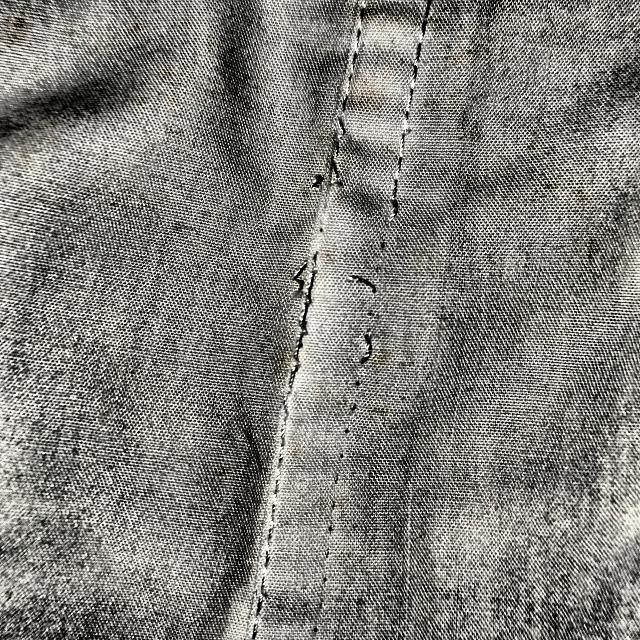Stitch: (284, 141, 362, 220), (338, 328, 415, 394), (266, 241, 334, 312), (377, 186, 425, 239), (345, 261, 391, 306)
